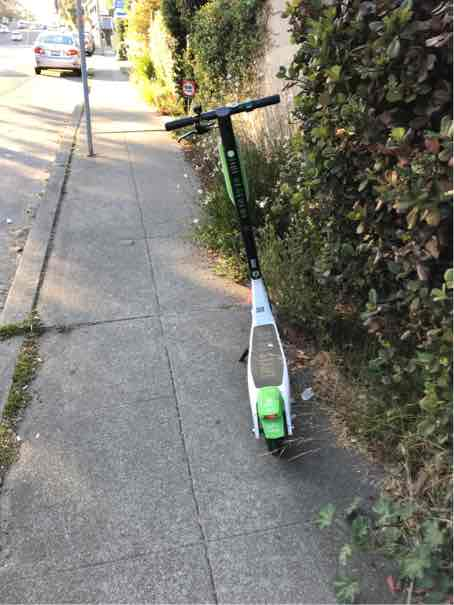scooter: (152, 90, 318, 452)
